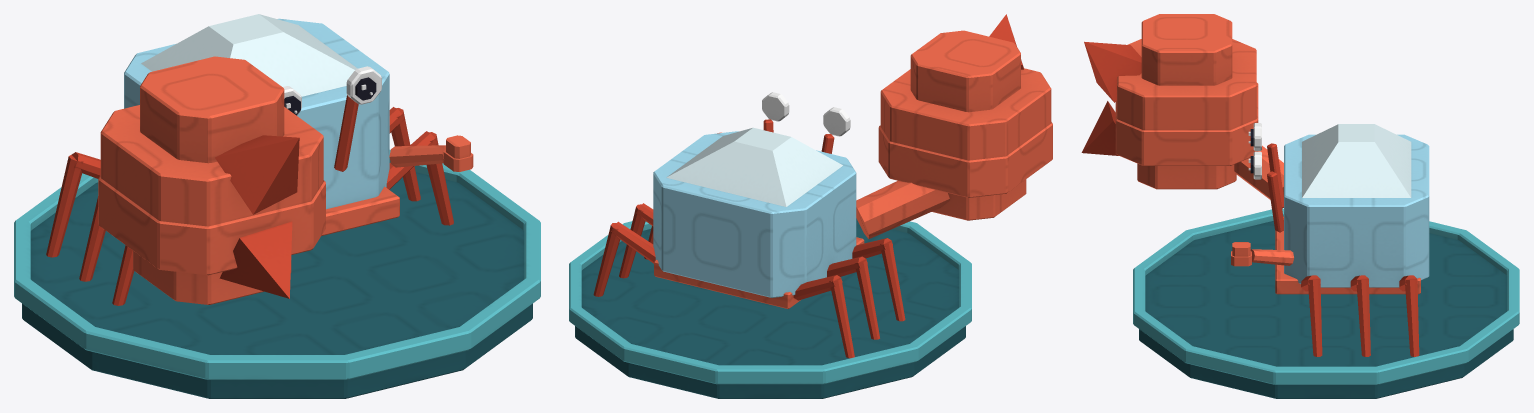
File: IceCrab.fbx
3 views of the same model, side by side, from view 1: azimuth 30°, elevation 25°; view 2: azimuth 150°, elevation 25°; view 3: azimuth 270°, elevation 25° (orthographic). The views are drawn at different scales.
Parts seen in each view (by area): view 1: Art_IceCrab_Stand, Art_IceCrab_ClawBig, Art_IceCrab_Body, Art_IceCrab_EyeL, Art_IceCrab_ClawSmall; view 2: Art_IceCrab_Stand, Art_IceCrab_Body, Art_IceCrab_ClawBig, Art_IceCrab_EyeR, Art_IceCrab_EyeL; view 3: Art_IceCrab_Stand, Art_IceCrab_Body, Art_IceCrab_ClawBig, Art_IceCrab_ClawSmall, Art_IceCrab_EyeL, Art_IceCrab_EyeR.
Part boxes in pixels (x1,y1,x2,y2): Art_IceCrab_Stand: (14, 150, 540, 398); Art_IceCrab_ClawBig: (98, 56, 325, 304); Art_IceCrab_Body: (46, 14, 453, 305); Art_IceCrab_EyeL: (334, 66, 381, 171); Art_IceCrab_ClawSmall: (389, 135, 473, 171); Art_IceCrab_Stand: (569, 218, 971, 398); Art_IceCrab_Body: (593, 127, 905, 358); Art_IceCrab_ClawBig: (856, 14, 1052, 238); Art_IceCrab_EyeR: (821, 107, 850, 153); Art_IceCrab_EyeL: (762, 92, 789, 132); Art_IceCrab_Stand: (1133, 208, 1519, 398); Art_IceCrab_Body: (1275, 124, 1429, 356); Art_IceCrab_ClawBig: (1081, 14, 1283, 199); Art_IceCrab_ClawSmall: (1231, 242, 1293, 266); Art_IceCrab_EyeL: (1248, 151, 1283, 232); Art_IceCrab_EyeR: (1248, 123, 1283, 208).
Bounding box in the file's own units: 3.3 × 2.1 × 3.61.
